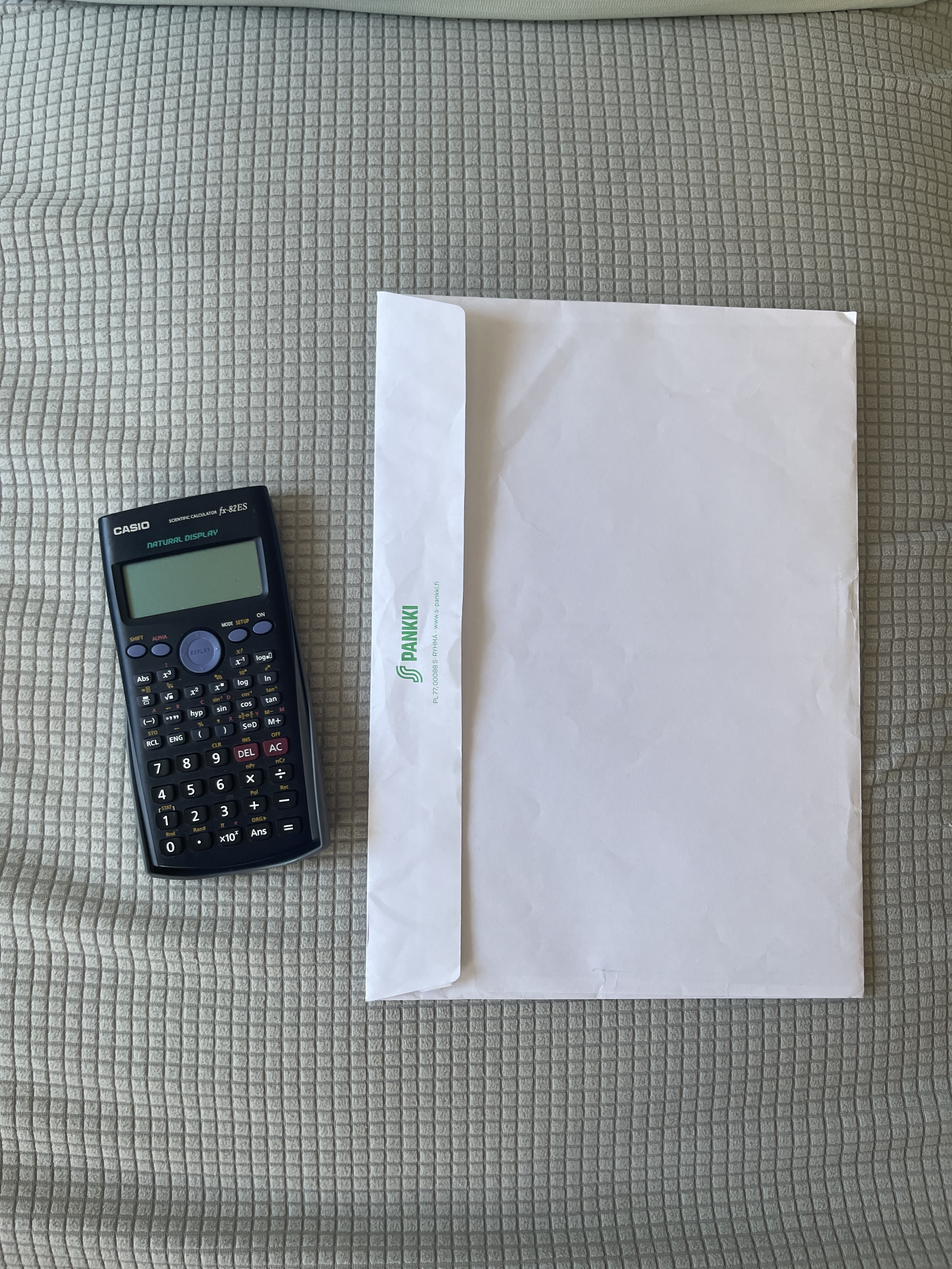paper: (364, 276, 874, 1005)
